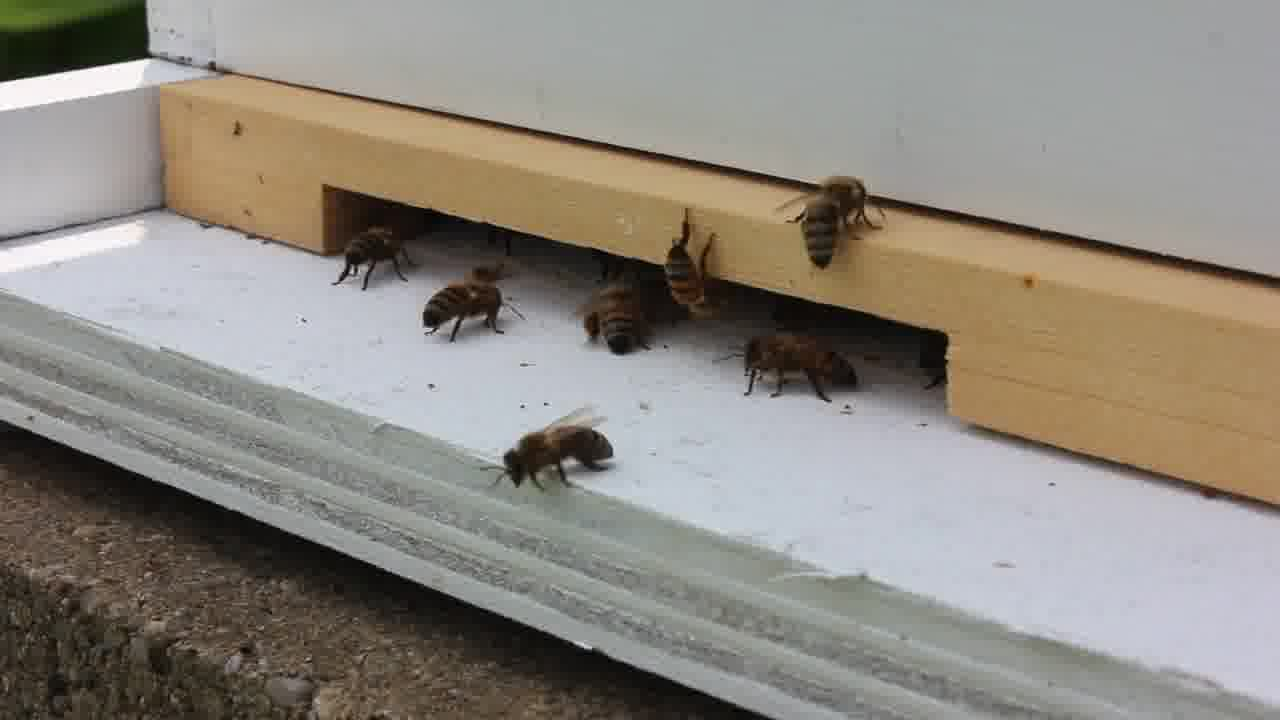pollen: (582, 278, 661, 354)
